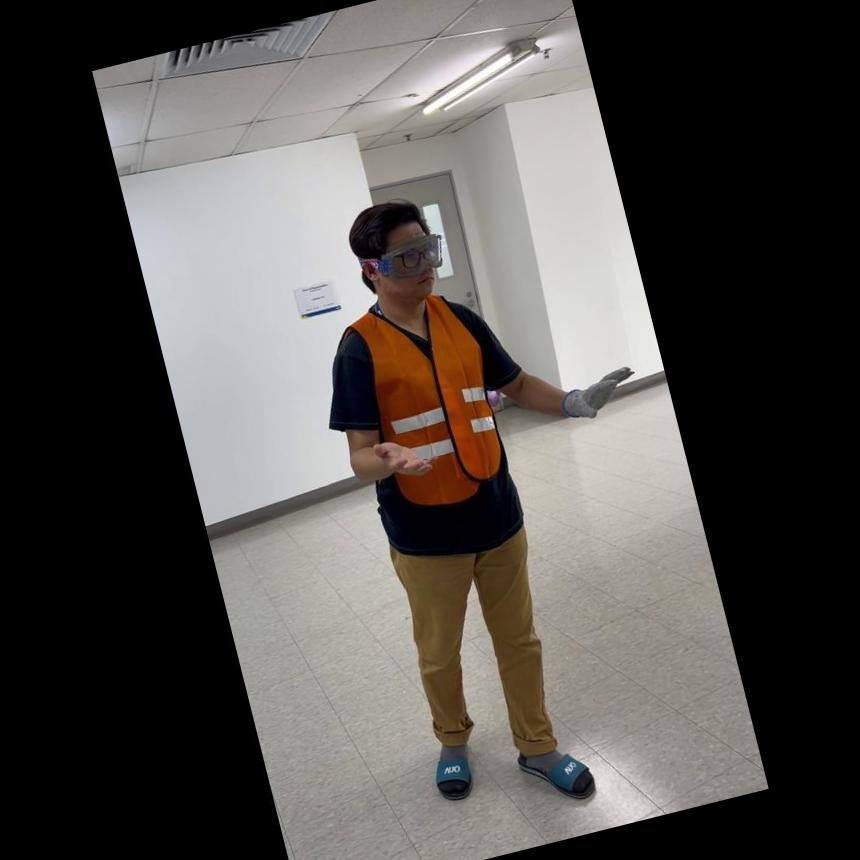Gloves: (554, 356, 644, 425)
No-gloves: (366, 424, 435, 487)
